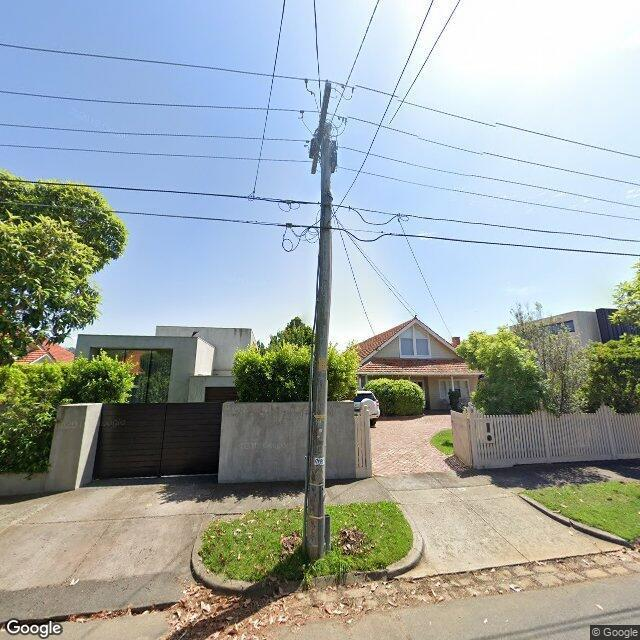crossarm: (311, 83, 331, 174)
timber-pole: (307, 120, 332, 560)
